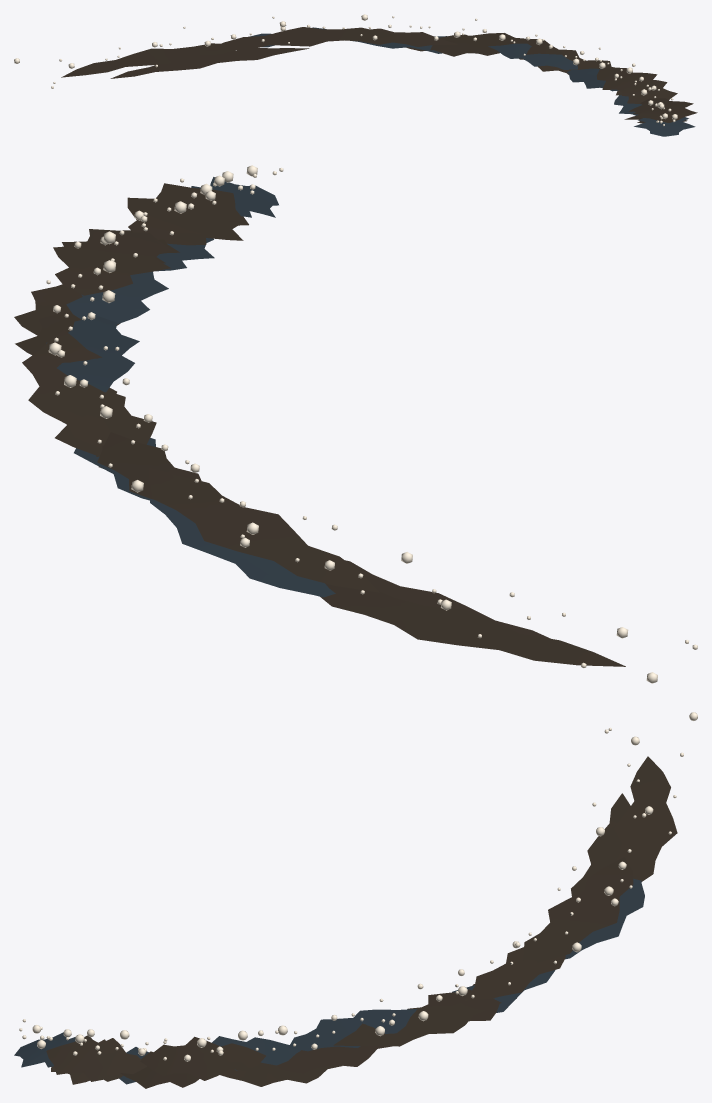
Rendered from galaxy_arm.glb.
3 views of the same model, one above another, from view 1: azimuth 30°, elevation 25°; view 2: azimuth 150°, elevation 25°; view 3: azimuth 270°, elevation 25° (orthographic). The views are drawn at different scales.
Visible parts, largest first — view 1: galaxy_arm_textured_mesh; view 2: galaxy_arm_textured_mesh; view 3: galaxy_arm_textured_mesh.
Boxes of the visible parts, <box> form: galaxy_arm_textured_mesh: <box>14,14,697,136</box>; galaxy_arm_textured_mesh: <box>14,165,697,683</box>; galaxy_arm_textured_mesh: <box>14,712,697,1088</box>.
Size of the model in its own units: 3.05 by 0.1394 by 2.5.
1 material, 1 textured.
